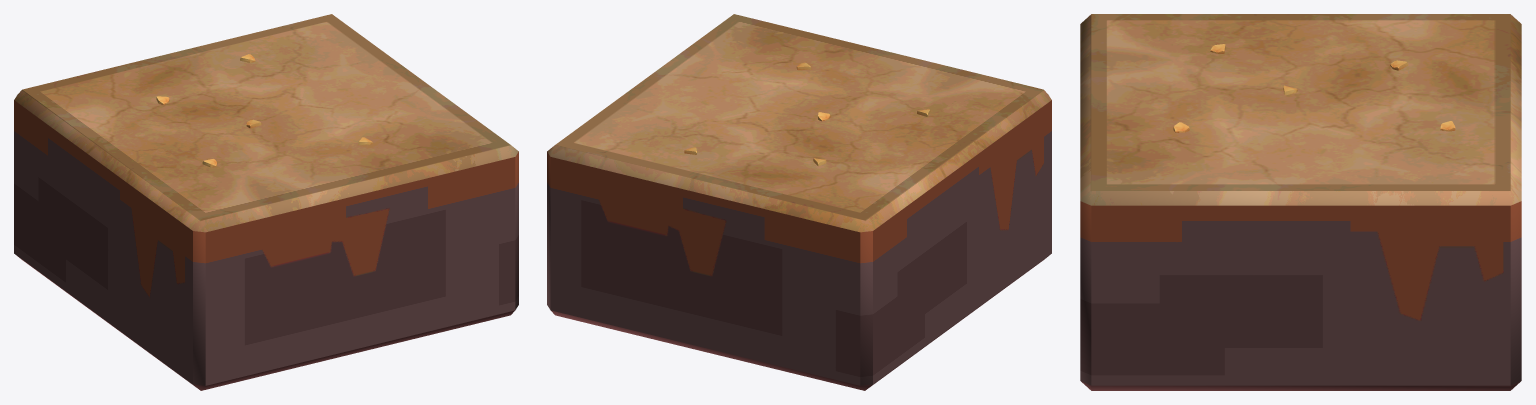
File: tiledesert001.glb
The picture shows the model from 3 angles, left to right: view 1: azimuth 30°, elevation 25°; view 2: azimuth 150°, elevation 25°; view 3: azimuth 270°, elevation 25°; orthographic projection. The views are drawn at different scales.
Visible parts, largest first — view 1: tiledesert001; view 2: tiledesert001; view 3: tiledesert001.
Boxes of the visible parts, x1,y1,x2,y2 form: tiledesert001: (14,14,518,390); tiledesert001: (547,14,1051,390); tiledesert001: (1080,14,1521,390).
Bounding box in the file's own units: 1 × 0.5095 × 1.
Materials: 2 (2 with a texture image).
